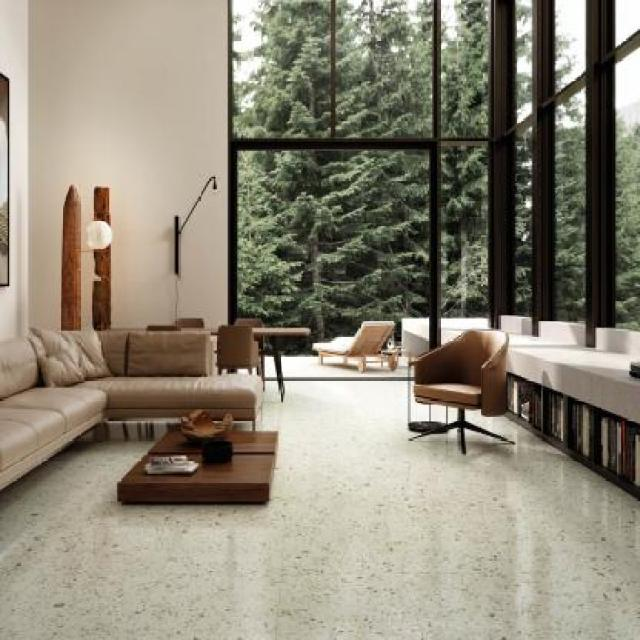Floor: (0, 379, 640, 640), (410, 379, 429, 422), (431, 404, 446, 424), (447, 406, 458, 424)
